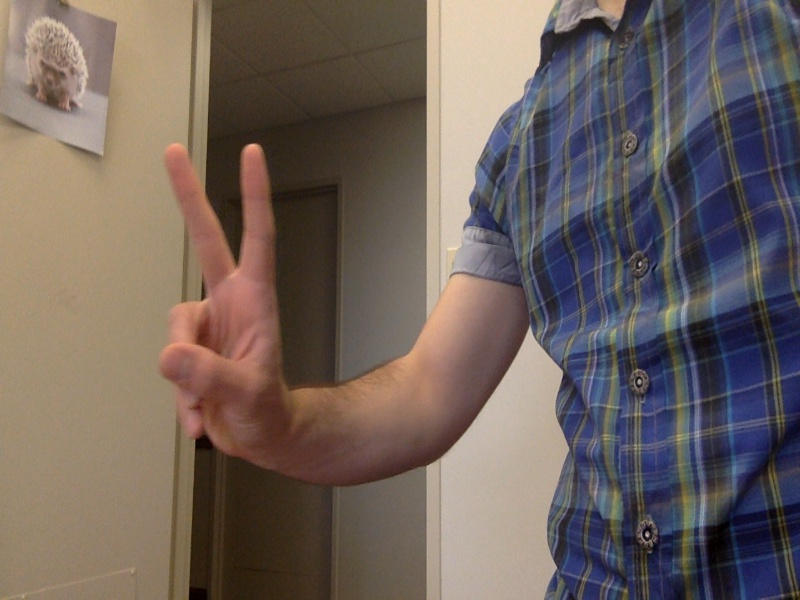2-hand: (156, 141, 302, 473)
